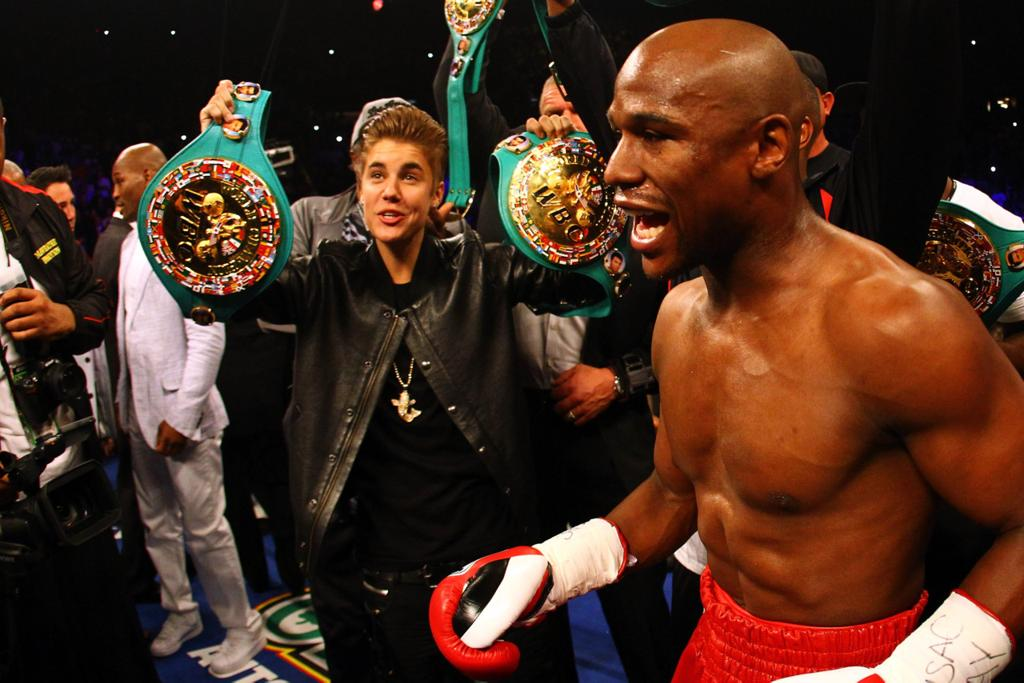face: (603, 66, 751, 280), (360, 141, 430, 242), (540, 83, 602, 162), (111, 157, 144, 222), (41, 180, 76, 235), (611, 256, 621, 271)
